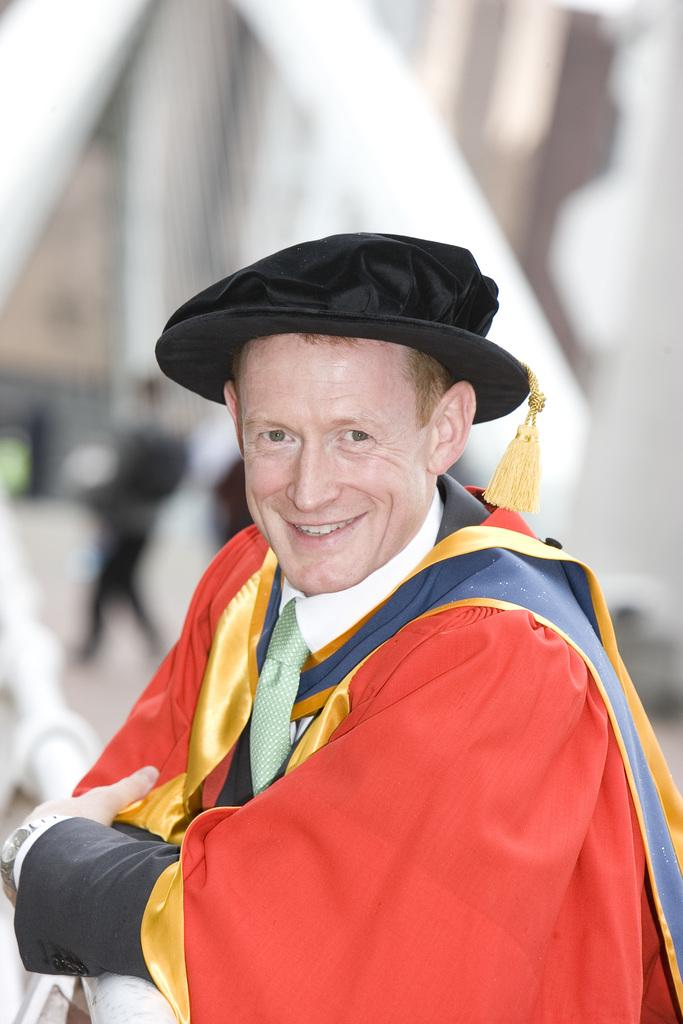Hat: (156, 234, 544, 512)
